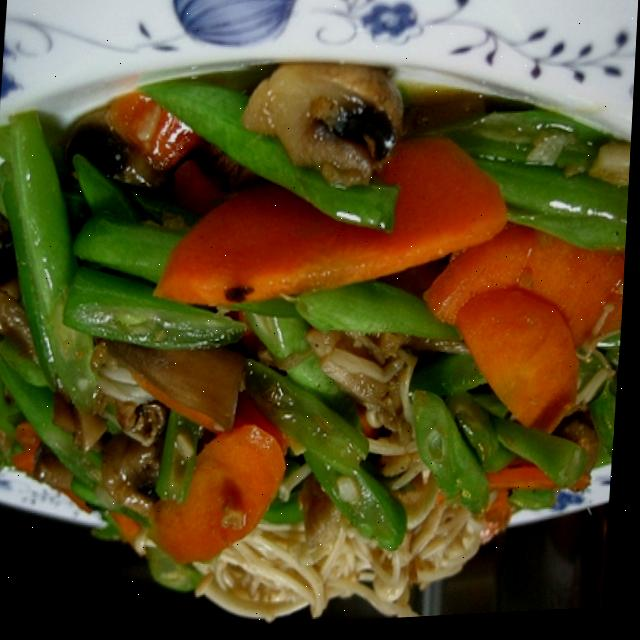蔬菜料理: (0, 37, 629, 631)
